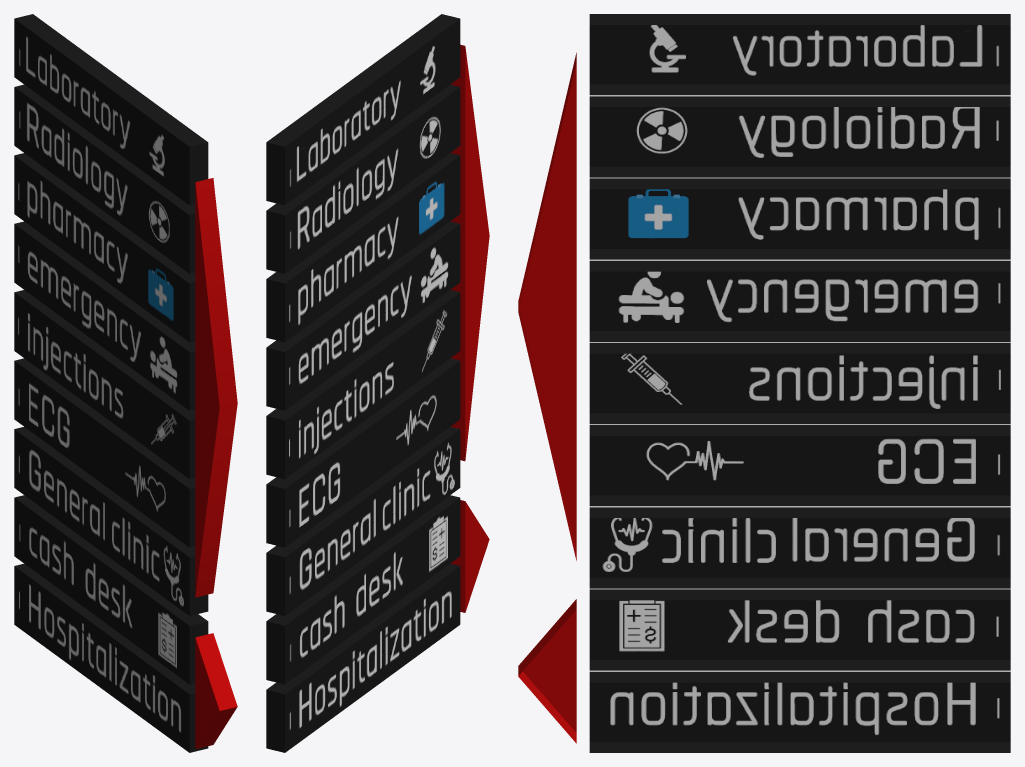
Rendered from panel_route_guide_hospital.glb.
The picture shows the model from 3 angles, left to right: view 1: azimuth 30°, elevation 25°; view 2: azimuth 150°, elevation 25°; view 3: azimuth 270°, elevation 25°; orthographic projection. The views are drawn at different scales.
Visible parts, largest first — view 1: base, R; view 2: base, R; view 3: base, R.
Boxes of the visible parts, x1,y1,x2,y2 form: base: (14,14,208,752); R: (195,178,237,749); base: (266,14,460,752); R: (450,44,489,612); base: (589,14,1010,752); R: (518,52,576,743).
Size of the model in its own units: 0.04 by 1.24 by 0.7602.
Materials: 1 (1 with a texture image).
